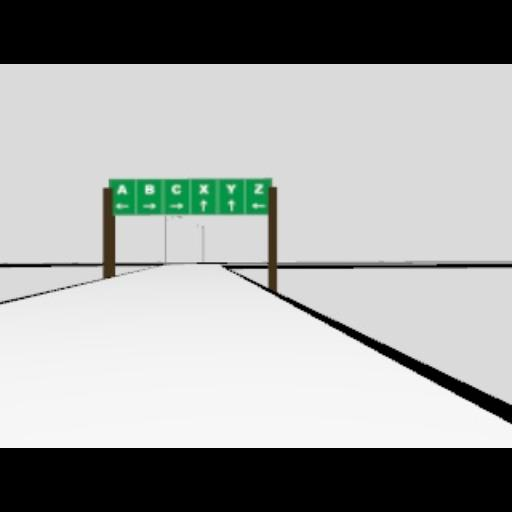A: (116, 184, 126, 194)
B: (170, 182, 182, 194), (144, 182, 154, 194)
Left: (251, 202, 265, 208), (116, 202, 128, 208)
Right: (168, 202, 184, 208), (141, 202, 155, 208)
Straight: (225, 198, 235, 212), (198, 198, 206, 212)
X: (198, 182, 208, 194)
Y: (224, 182, 236, 194)
Z: (252, 182, 264, 194)
